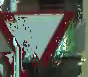Give way: (0, 6, 74, 70)
